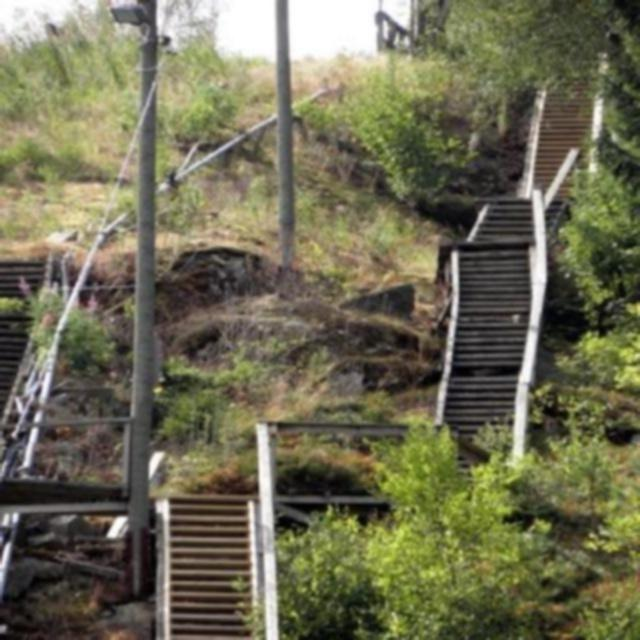stair: (0, 54, 609, 640)
